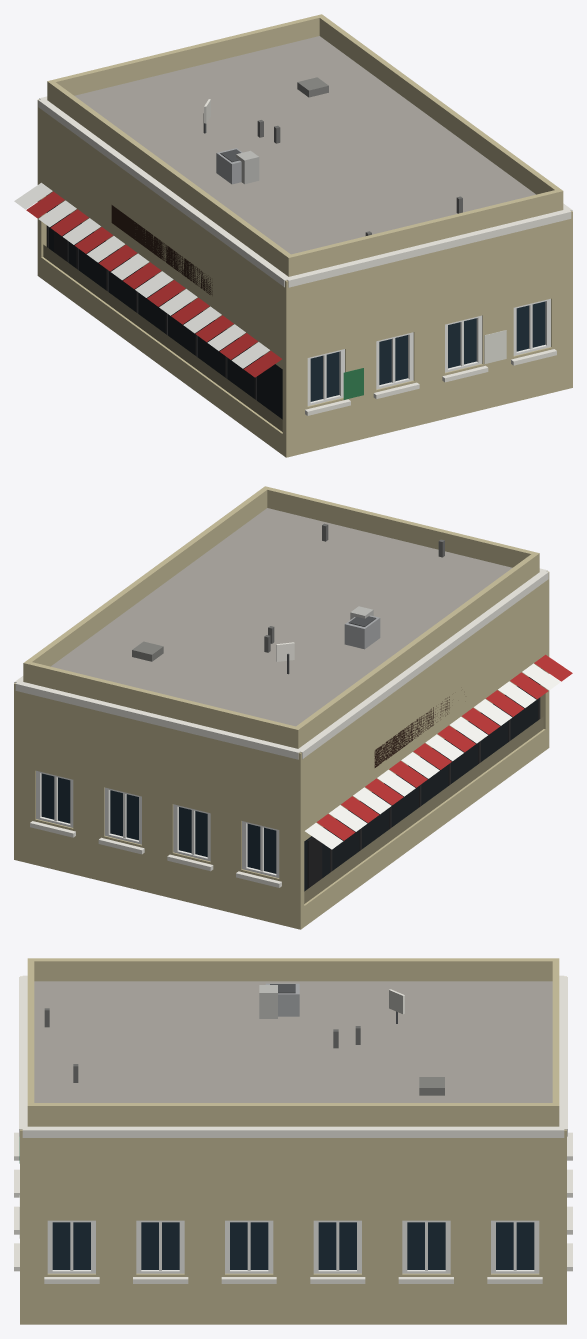
3 renders of one model, top to bottom at view 1: azimuth 30°, elevation 25°; view 2: azimuth 150°, elevation 25°; view 3: azimuth 270°, elevation 25°, orthographic. The views are drawn at different scales.
Parts seen in each view (by area): view 1: b2292_opaque, b2292_glass; view 2: b2292_opaque, b2292_glass; view 3: b2292_opaque, b2292_glass.
Part boxes in pixels (bbox=[...]): b2292_opaque: bbox=[14, 14, 572, 457]; b2292_glass: bbox=[49, 205, 545, 419]; b2292_opaque: bbox=[14, 486, 572, 929]; b2292_glass: bbox=[41, 677, 537, 891]; b2292_opaque: bbox=[14, 958, 572, 1324]; b2292_glass: bbox=[52, 1222, 534, 1269].
Bounding box in the file's own units: 4767 × 2956 × 6575.
